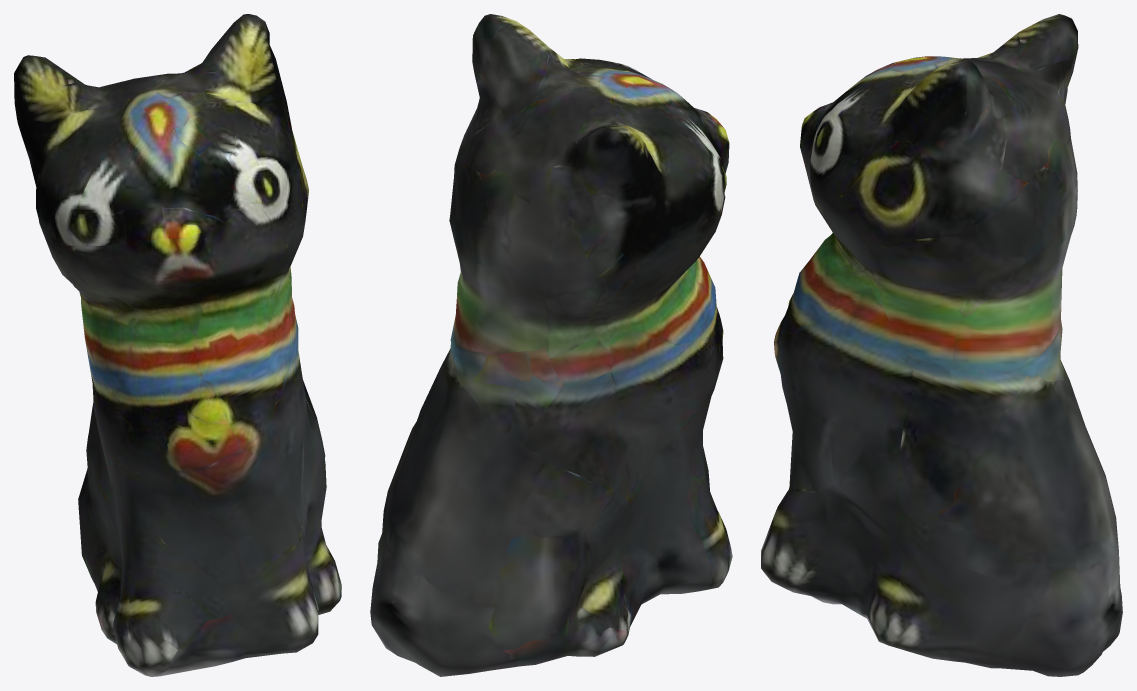
File: hall.glb
3 views of the same model, side by side, from view 1: azimuth 30°, elevation 25°; view 2: azimuth 150°, elevation 25°; view 3: azimuth 270°, elevation 25° (orthographic).
Bounding box in the file's own units: 0.4296 × 0.8772 × 0.4796.
1 material, 1 textured.
